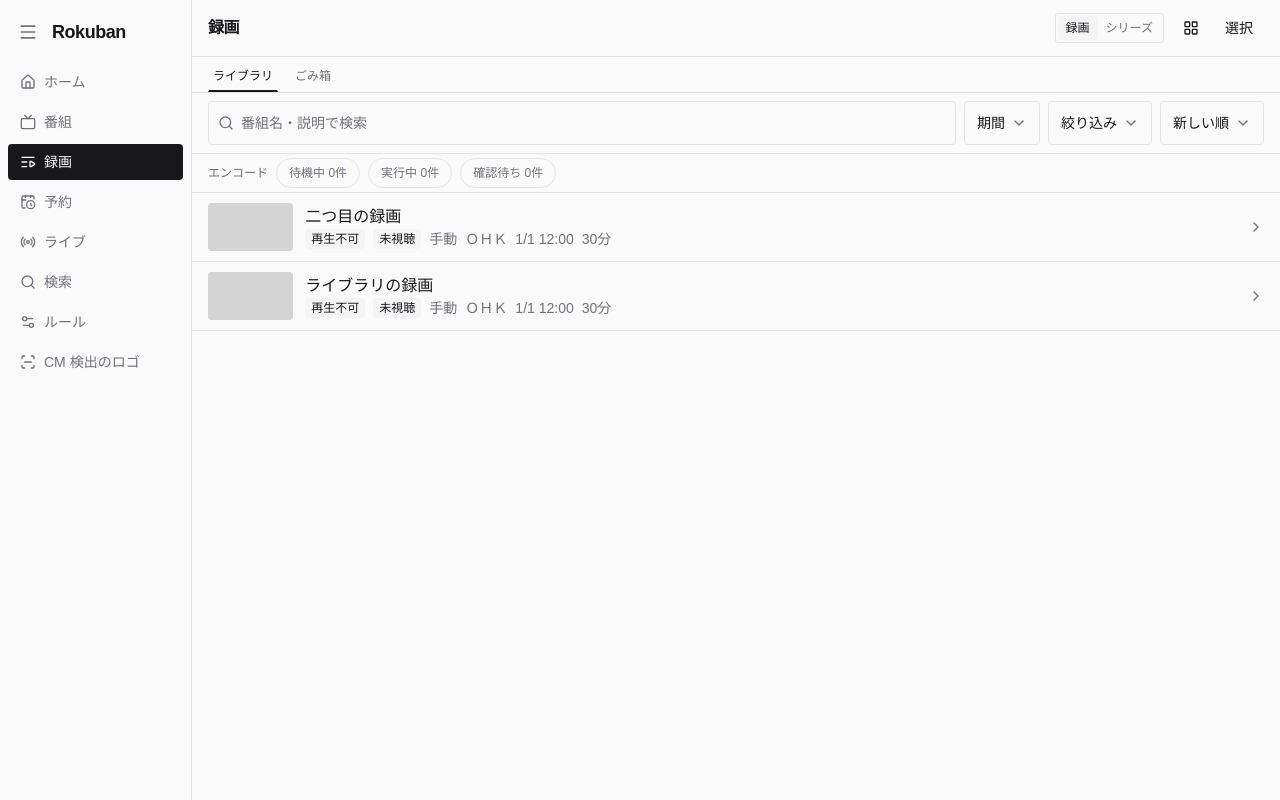
Test: RecordingsPage 複数選択と一括操作 › 読み込み済みと明記した全選択で現在の行だけを選ぶ
Expected: the text "二つ目の録画" is shown, [305,208,401,225]
What coordinates should you click on to do the following:
click the button "選択"
I would click on:
 (1239, 28)
Its box is [1214,12,1264,44].
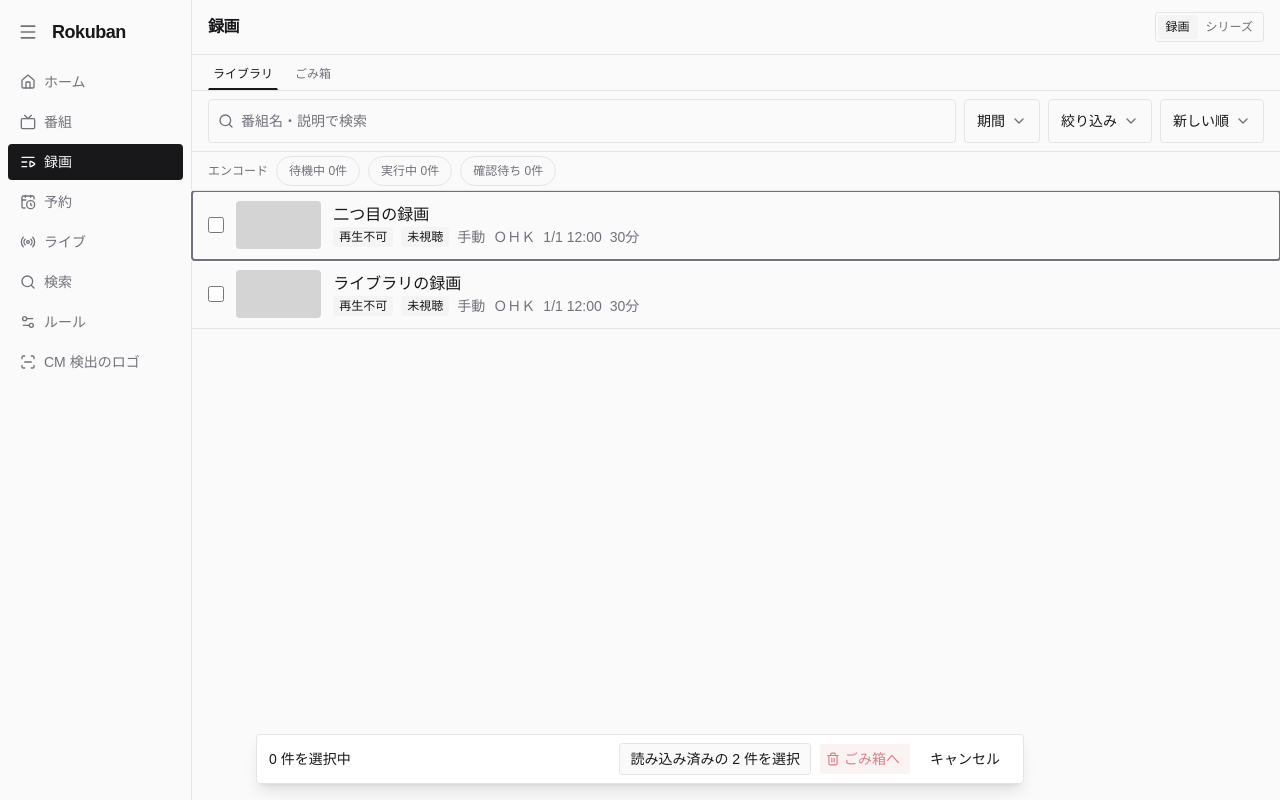
What coordinates should you click on to do the following:
click the button "読み込み済みの 2 件を選択"
I would click on:
 (715, 759)
Its box is [619,743,811,775].
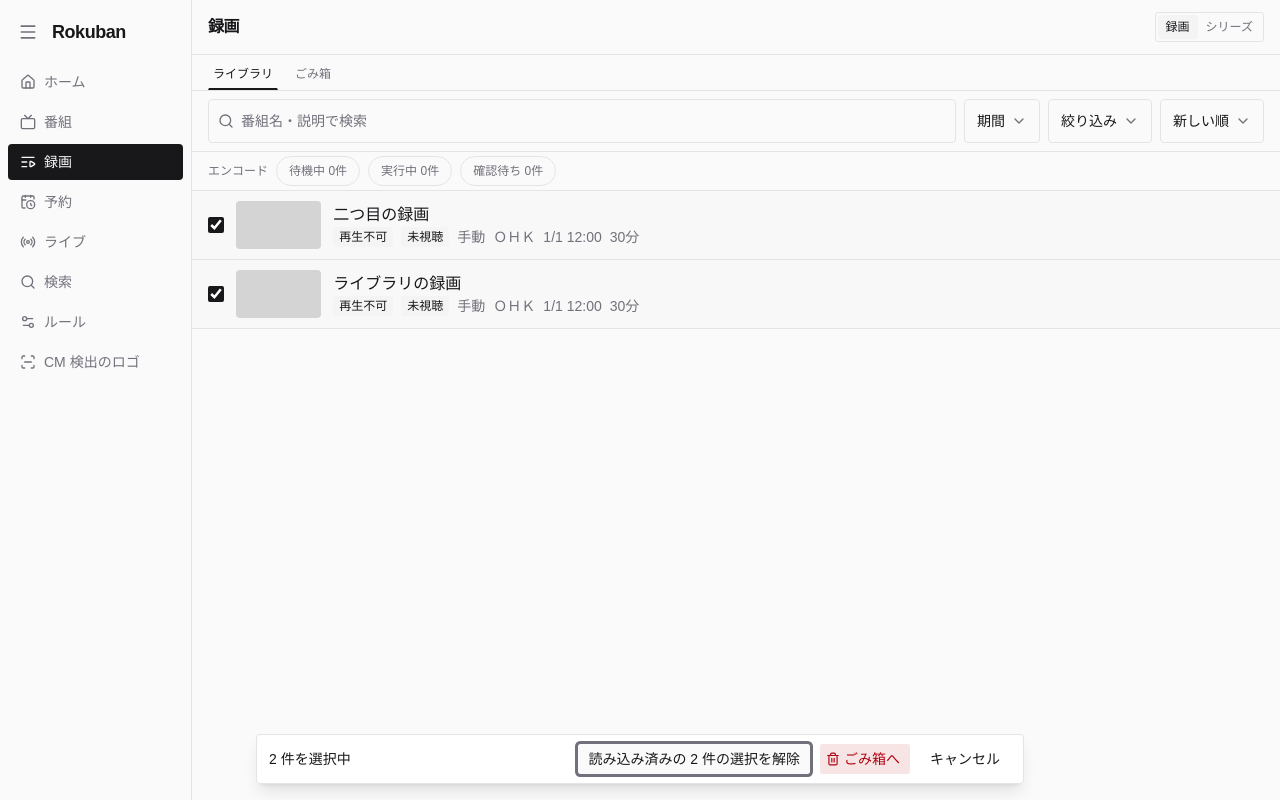
Now the number of checkboxes is 2, box [208,217,224,233]; [208,286,224,302]
Now the text "2 件を選択中" is shown, box [269,749,351,769]
